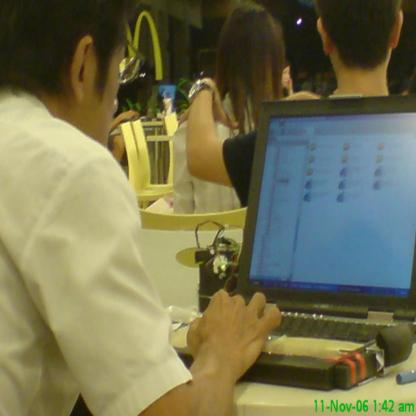board: (174, 94, 415, 392)
